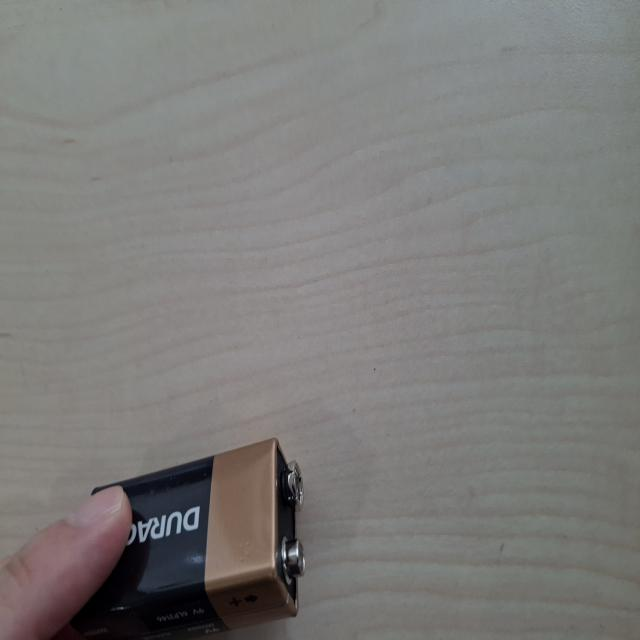9V: (326, 441, 479, 640)
